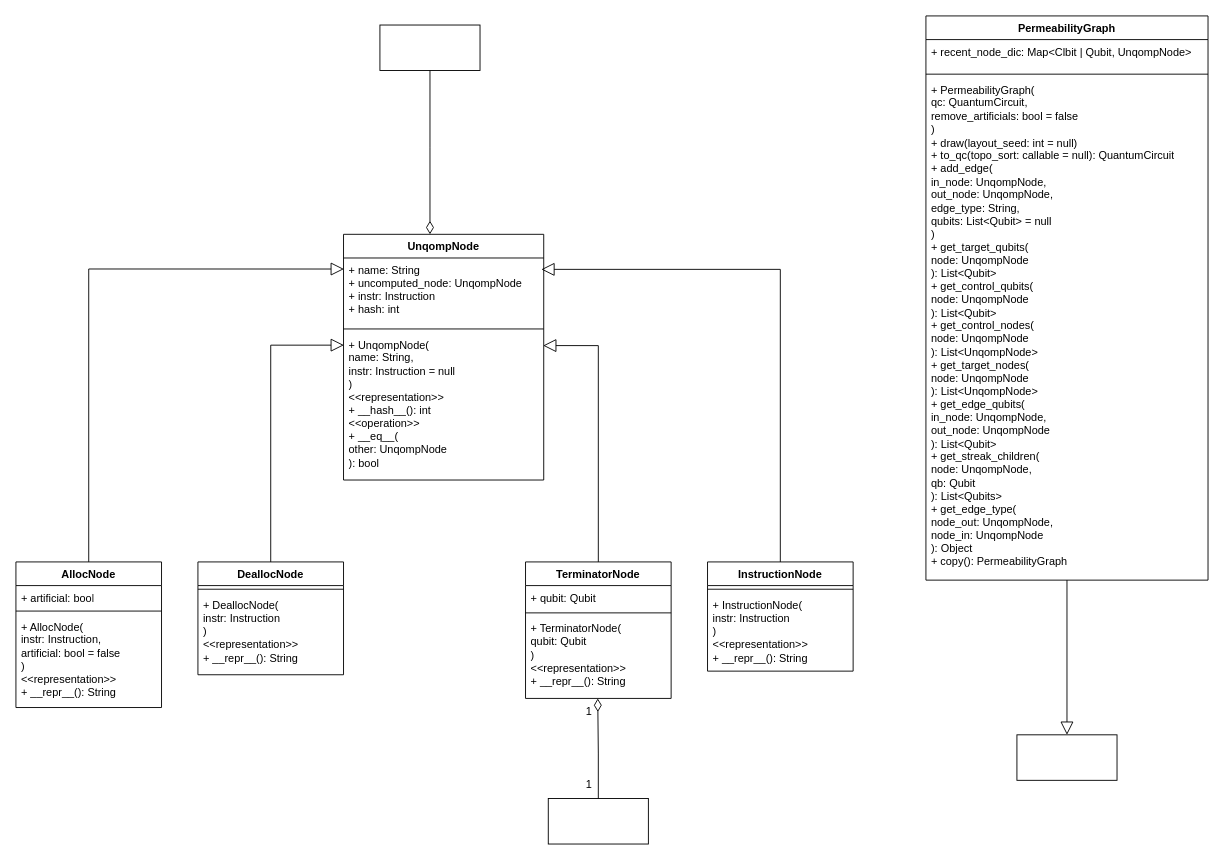
Some shapes in this 1224 by 860 pixel diagram are drawn without their labels. Each missing label, with the centre of its shape:
"Instruction" goes at [429,47].
"nx.DiGraph" goes at [1066,757].
"Qubit" goes at [597,821].
